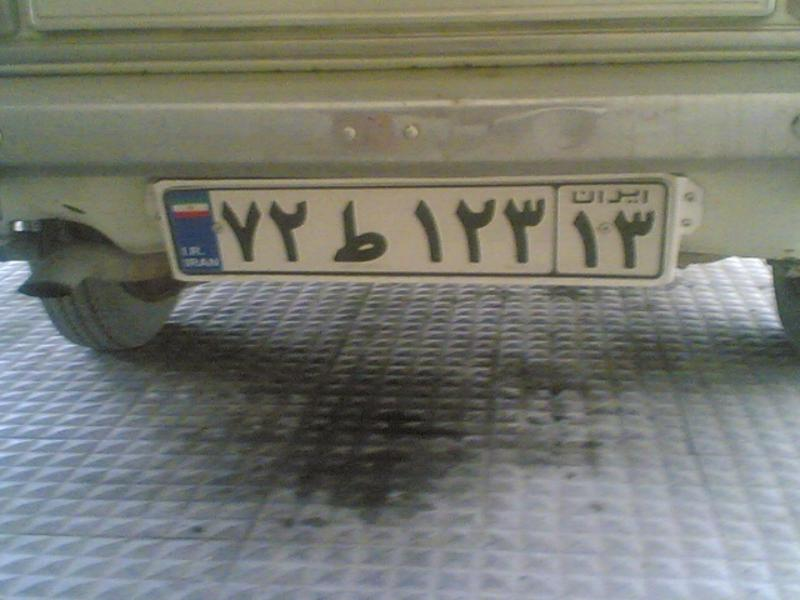Plate: (171, 178, 672, 279)
